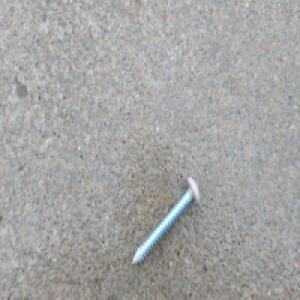Nail: (131, 175, 200, 268)
